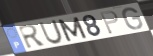8: (82, 14, 103, 37)
G: (122, 6, 145, 30)
M: (56, 16, 90, 43)
P: (99, 10, 120, 36)
R: (17, 23, 48, 50)
U: (39, 19, 65, 45)
